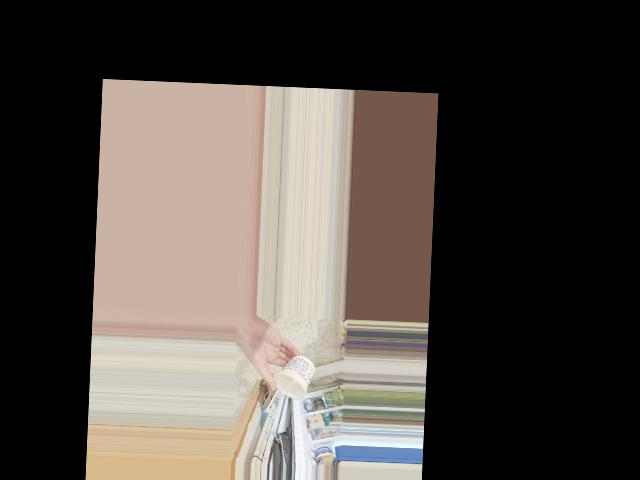cotage: (274, 358, 313, 401)
